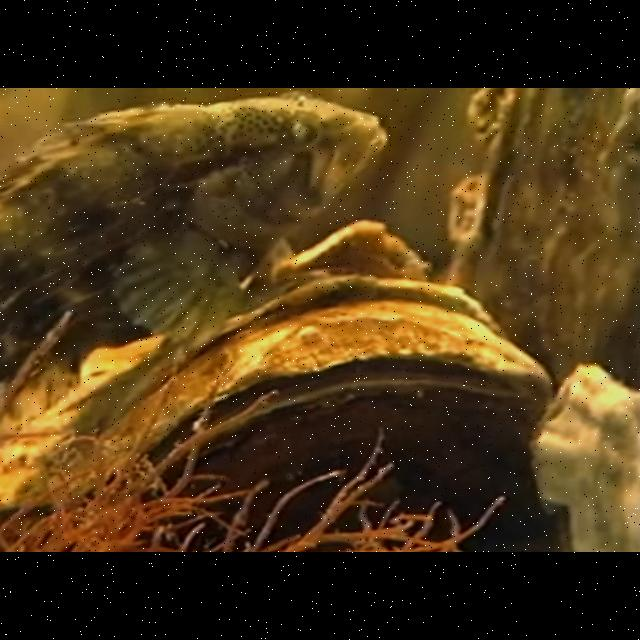Oyster-Closed: (438, 88, 640, 398)
Oyster-Open: (0, 275, 552, 536), (530, 363, 640, 553)
